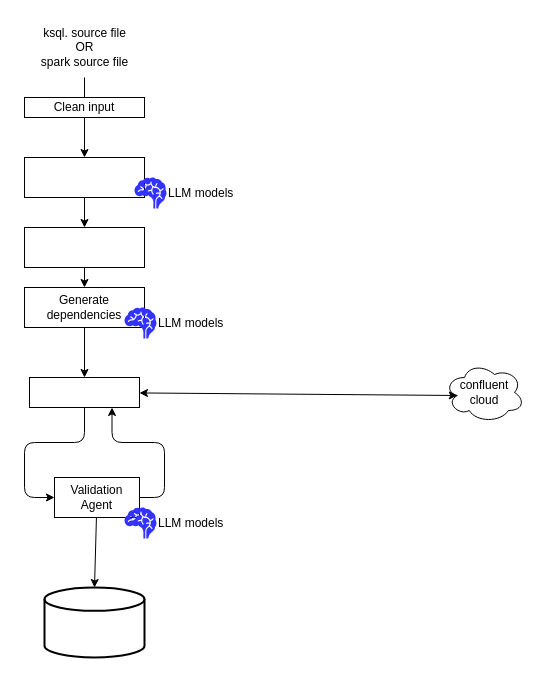
Some shapes in this 542 by 675 pixel diagram are drawn without their labels. The centre of each missing label's shape, as x and y in pixels:
Deploy Fink Statement: (x=84, y=392)
Flink SQL Syntax Validation: (x=84, y=247)
Flink statement in Staging: (x=94, y=622)
Translator Agent: (x=84, y=177)
